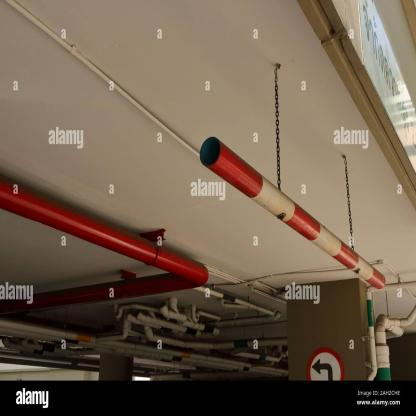PVC: (0, 177, 209, 314), (199, 137, 385, 290), (1, 325, 288, 377), (114, 286, 287, 362), (366, 281, 415, 380), (2, 313, 130, 343), (373, 305, 416, 381)
